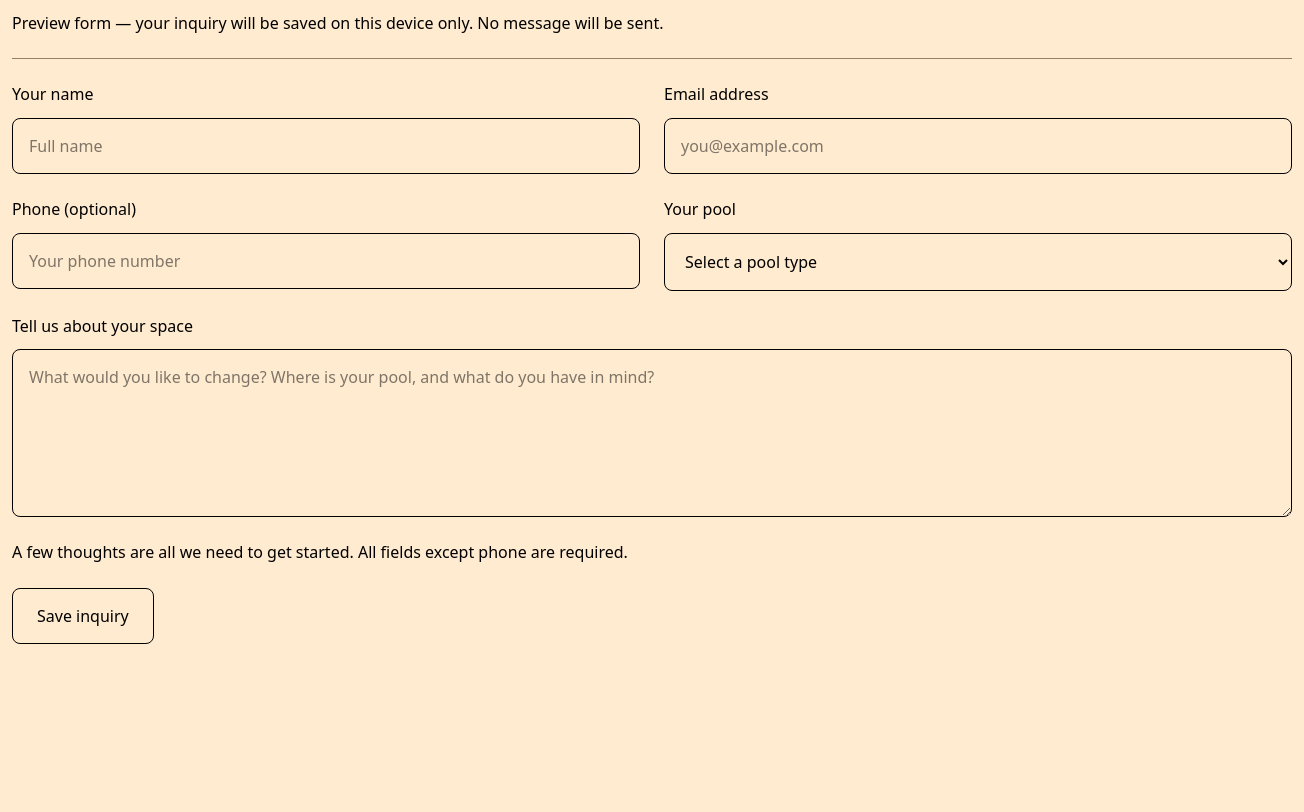
Scenario: inquiry form › preserves entered values when validation fails
Type "Alex Morgan" into the field labelled "Your name" at x=326, y=146, box [12,118,640,174]
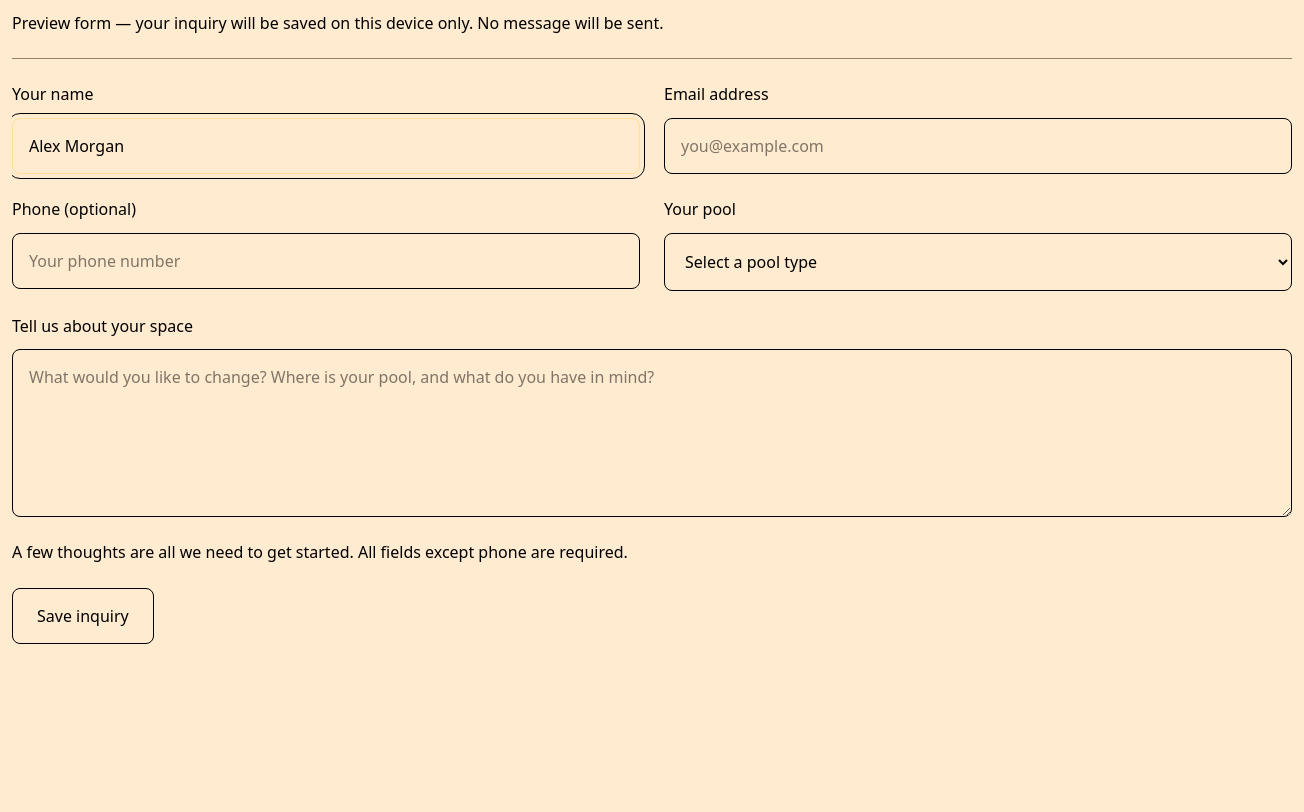
Click the button "Save inquiry" at x=83, y=616, box [12,588,154,644]
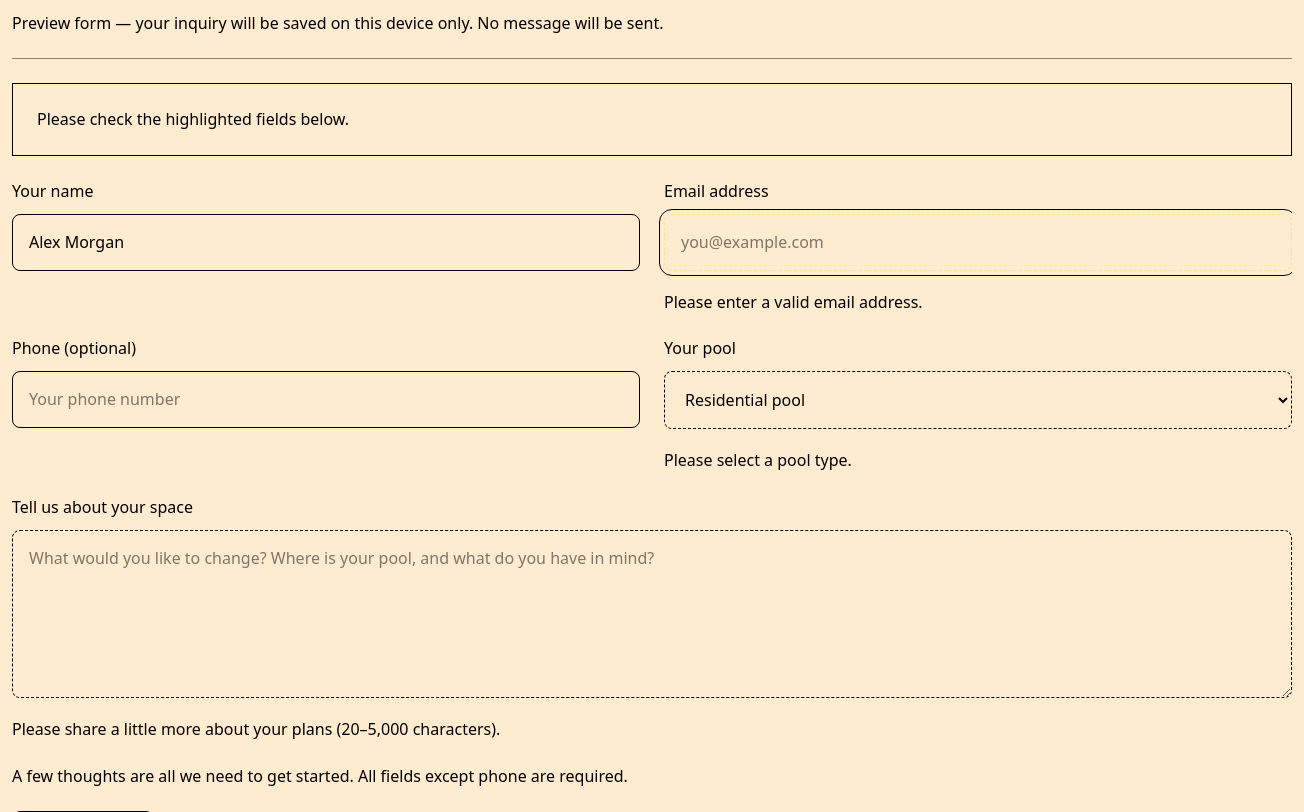
Expected: the message "Please check the highlighted fields below." is shown, [12,83,1292,156]
